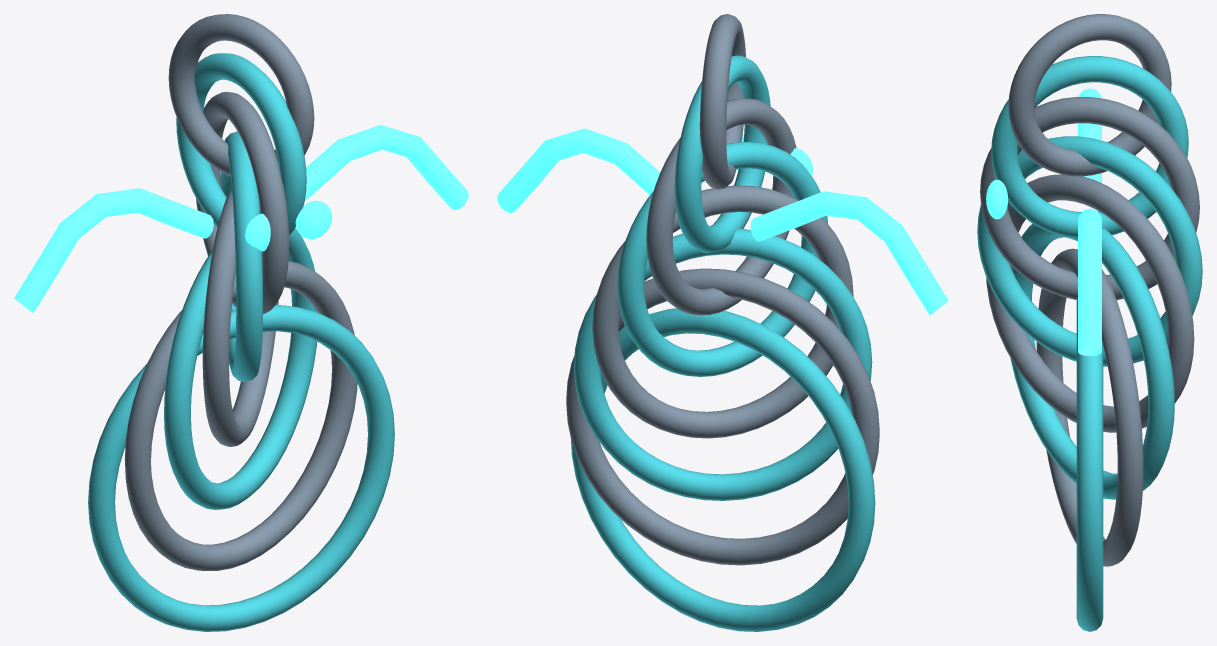
File: elemental_v8.glb
3 views of the same model, side by side, from view 1: azimuth 30°, elevation 25°; view 2: azimuth 150°, elevation 25°; view 3: azimuth 270°, elevation 25° (orthographic).
Visible parts, largest first — view 1: WIND_RING_ACCENT, WIND_RING_PRIMARY, WIND_RING_ACCENT.001, WIND_RING_PRIMARY.003, WIND_RING_PRIMARY.001, WIND_RING_ACCENT.003, WIND_RING_PRIMARY.002, WIND_RING_ACCENT.002, WIND_ARM_EMISSIVE, WIND_ARM_EMISSIVE.001, EYE_EMISSIVE.001, EYE_EMISSIVE; view 2: WIND_RING_ACCENT, WIND_RING_PRIMARY, WIND_RING_ACCENT.001, WIND_RING_PRIMARY.001, WIND_RING_ACCENT.002, WIND_RING_PRIMARY.002, WIND_RING_ACCENT.003, WIND_ARM_EMISSIVE, WIND_RING_PRIMARY.003, WIND_ARM_EMISSIVE.001; view 3: WIND_RING_PRIMARY.001, WIND_RING_ACCENT.001, WIND_RING_ACCENT.002, WIND_RING_PRIMARY, WIND_RING_PRIMARY.002, WIND_RING_ACCENT.003, WIND_RING_PRIMARY.003, WIND_RING_ACCENT, WIND_ARM_EMISSIVE.001, EYE_EMISSIVE.001, WIND_ARM_EMISSIVE.
Part boxes in pixels (<box>): WIND_RING_ACCENT: <box>88,304,394,631</box>; WIND_RING_PRIMARY: <box>124,261,357,570</box>; WIND_RING_ACCENT.001: <box>164,228,317,509</box>; WIND_RING_PRIMARY.003: <box>168,14,314,176</box>; WIND_RING_PRIMARY.001: <box>202,187,278,446</box>; WIND_RING_ACCENT.003: <box>176,53,306,235</box>; WIND_RING_PRIMARY.002: <box>196,91,289,314</box>; WIND_RING_ACCENT.002: <box>220,131,262,382</box>; WIND_ARM_EMISSIVE: <box>14,188,213,313</box>; WIND_ARM_EMISSIVE.001: <box>305,125,468,210</box>; EYE_EMISSIVE.001: <box>295,200,332,239</box>; EYE_EMISSIVE: <box>245,213,270,251</box>; WIND_RING_ACCENT: <box>570,308,875,631</box>; WIND_RING_PRIMARY: <box>566,268,879,565</box>; WIND_RING_ACCENT.001: <box>573,228,872,500</box>; WIND_RING_PRIMARY.001: <box>592,185,853,438</box>; WIND_RING_ACCENT.002: <box>617,141,827,376</box>; WIND_RING_PRIMARY.002: <box>646,98,796,315</box>; WIND_RING_ACCENT.003: <box>674,55,770,253</box>; WIND_ARM_EMISSIVE: <box>750,191,948,315</box>; WIND_RING_PRIMARY.003: <box>699,14,745,189</box>; WIND_ARM_EMISSIVE.001: <box>497,128,660,213</box>; WIND_RING_PRIMARY.001: <box>986,174,1194,432</box>; WIND_RING_ACCENT.001: <box>1010,223,1174,499</box>; WIND_RING_ACCENT.002: <box>977,136,1202,366</box>; WIND_RING_PRIMARY: <box>1036,248,1143,566</box>; WIND_RING_PRIMARY.002: <box>980,97,1199,300</box>; WIND_RING_ACCENT.003: <box>991,56,1188,238</box>; WIND_RING_PRIMARY.003: <box>1008,14,1171,176</box>; WIND_RING_ACCENT: <box>1076,300,1103,631</box>; WIND_ARM_EMISSIVE.001: <box>1078,208,1101,356</box>; EYE_EMISSIVE.001: <box>986,179,1008,219</box>; WIND_ARM_EMISSIVE: <box>1078,88,1101,182</box>.
Bounding box in the file's own units: 2.32 × 3 × 1.02.
